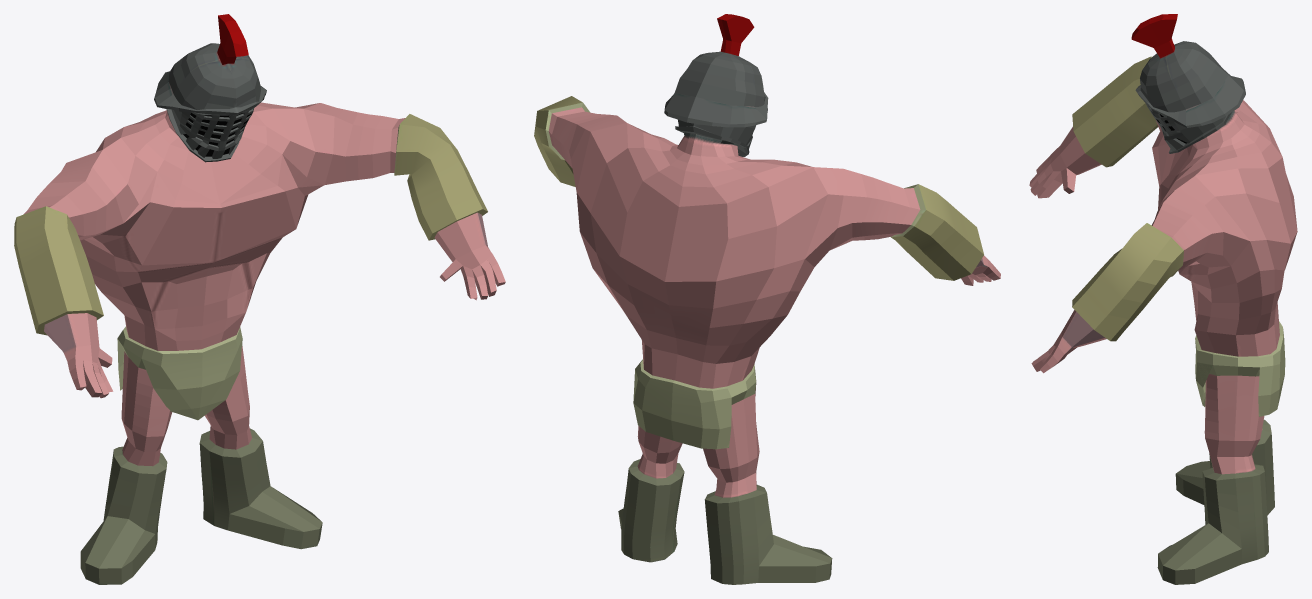
File: GladiatorCelebracion_000436.obj
3 renders of one model, left to right at view 1: azimuth 30°, elevation 25°; view 2: azimuth 150°, elevation 25°; view 3: azimuth 270°, elevation 25°, orthographic. The views are drawn at different scales.
Parts seen in each view (by area): view 1: Gadiador_Gladiador_H; view 2: Gadiador_Gladiador_H; view 3: Gadiador_Gladiador_H.
Boxes of the visible parts, left/top/right/bottom form: Gadiador_Gladiador_H: left=14, top=14, right=505, bottom=584; Gadiador_Gladiador_H: left=534, top=14, right=1000, bottom=584; Gadiador_Gladiador_H: left=1029, top=14, right=1297, bottom=584.
Size of the model in its own units: 6.2 by 7.2 by 3.34.
1 material, 1 textured.
